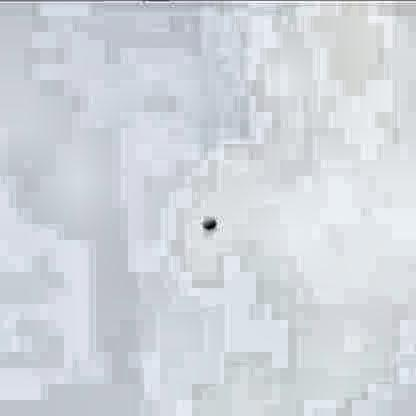golfball: (199, 215, 215, 228)
